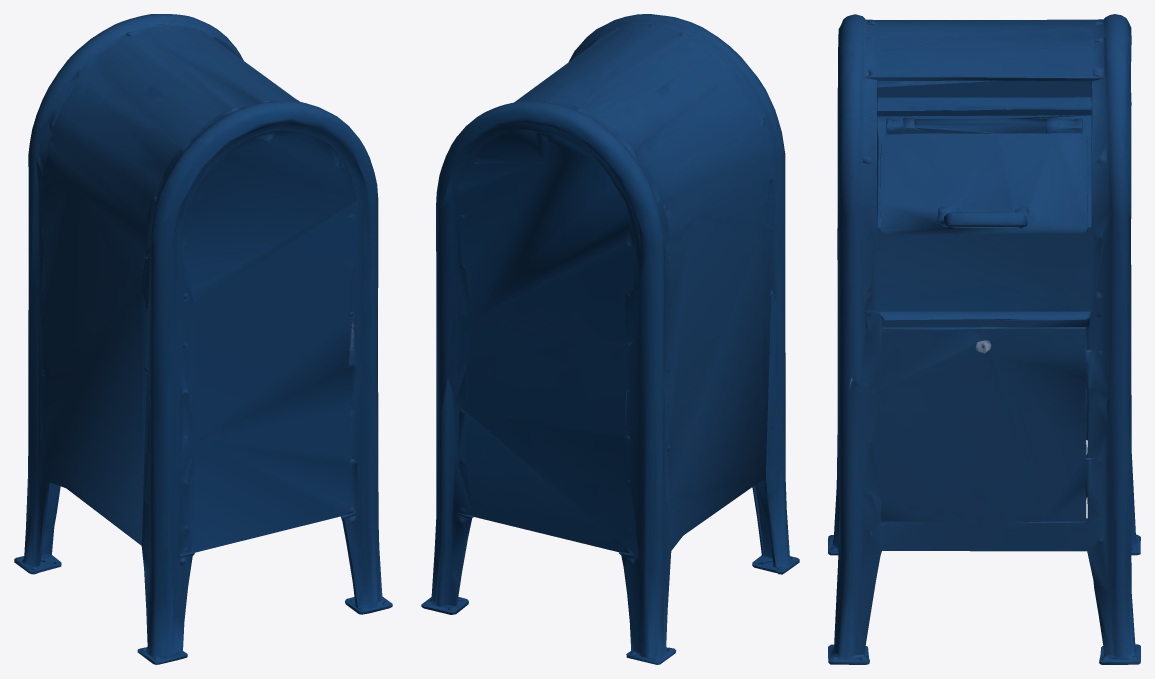
Rendered from mailbox.glb.
3 renders of one model, left to right at view 1: azimuth 30°, elevation 25°; view 2: azimuth 150°, elevation 25°; view 3: azimuth 270°, elevation 25°, orthographic. The views are drawn at different scales.
Parts seen in each view (by area): view 1: mailbox; view 2: mailbox; view 3: mailbox.
Part boxes in pixels (bbox=[...]): mailbox: bbox=[14, 14, 392, 664]; mailbox: bbox=[421, 14, 799, 664]; mailbox: bbox=[828, 14, 1140, 664].
Size of the model in its own units: 0.6067 by 1.25 by 0.6185.
Materials: 1 (1 with a texture image).
